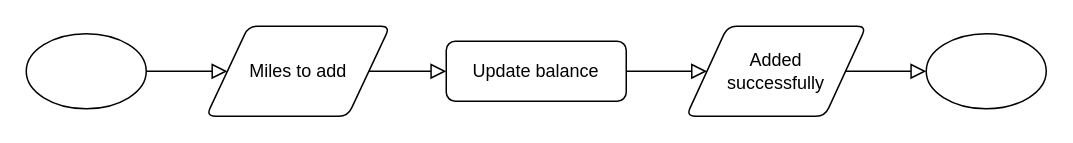
Some shapes in this 1073 by 143 pixel diagram are drawn without their labels. Each missing label, with the centre of its shape:
"END" goes at point 985,70.
"START" goes at point 85,70.
